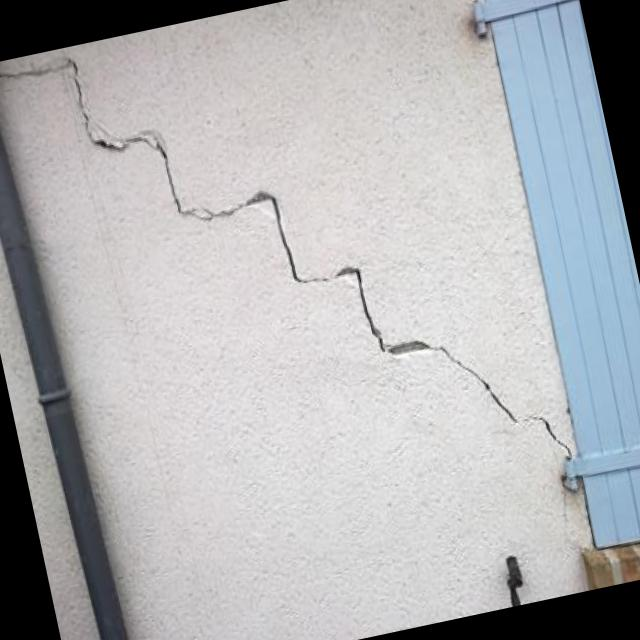crack: (0, 57, 571, 456)
